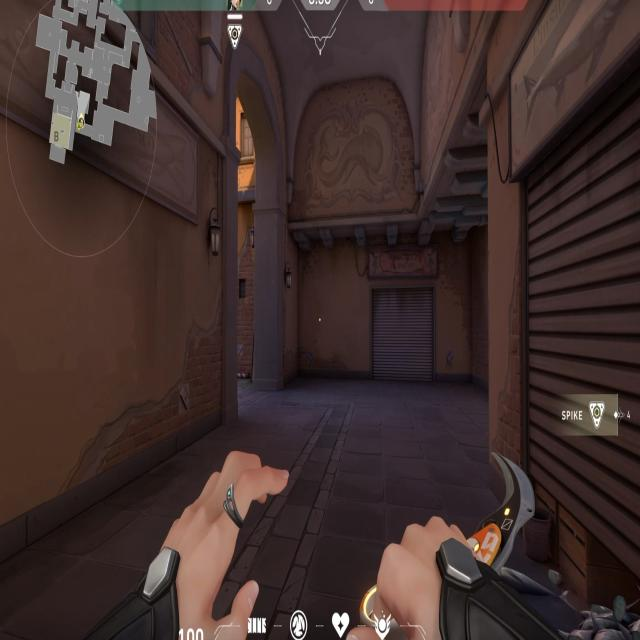B_Main_Corner: (480, 0, 640, 640)
